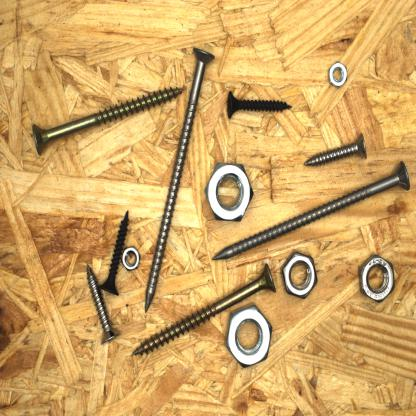screw: (207, 159, 416, 262), (142, 41, 217, 318), (129, 261, 280, 359), (30, 84, 186, 158), (84, 259, 124, 348), (96, 209, 132, 299), (302, 129, 370, 169), (225, 88, 294, 122)
